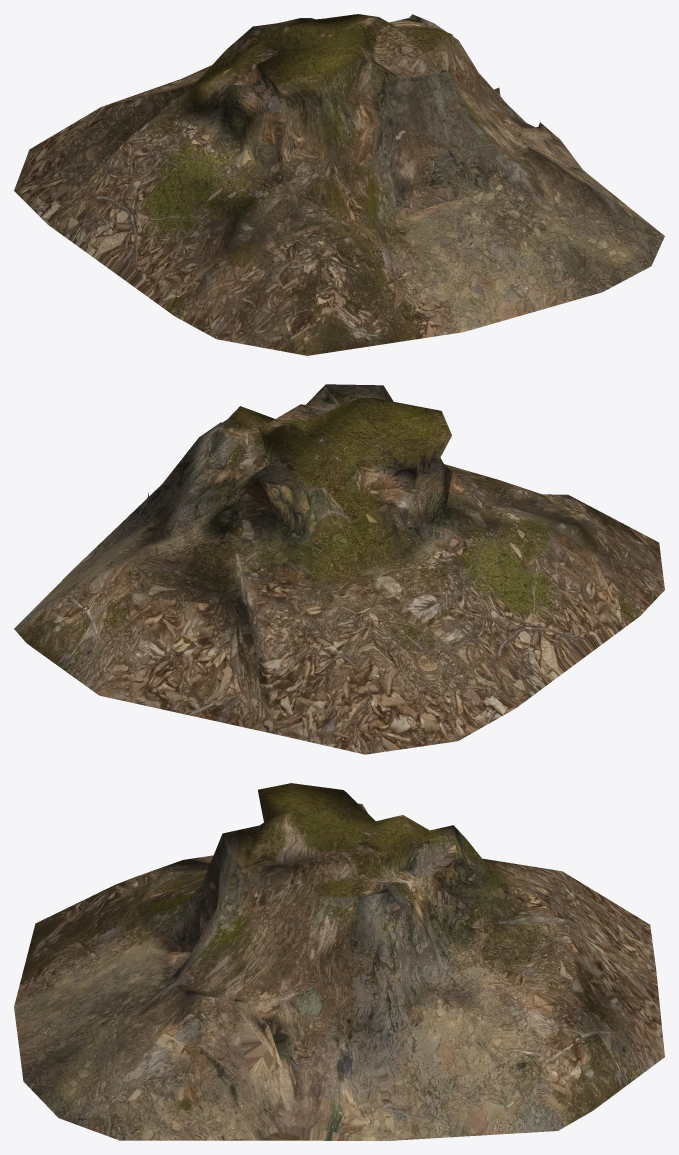
Rendered from stump.glb.
3 views of the same model, one above another, from view 1: azimuth 30°, elevation 25°; view 2: azimuth 150°, elevation 25°; view 3: azimuth 270°, elevation 25° (orthographic). The views are drawn at different scales.
Parts seen in each view (by area): view 1: lod1; view 2: lod1; view 3: lod1.
Part boxes in pixels (<box>): lod1: <box>14,14,664,355</box>; lod1: <box>14,384,664,754</box>; lod1: <box>14,783,664,1140</box>.
Size of the model in its own units: 1.49 by 0.5868 by 1.66.
1 material, 1 textured.
